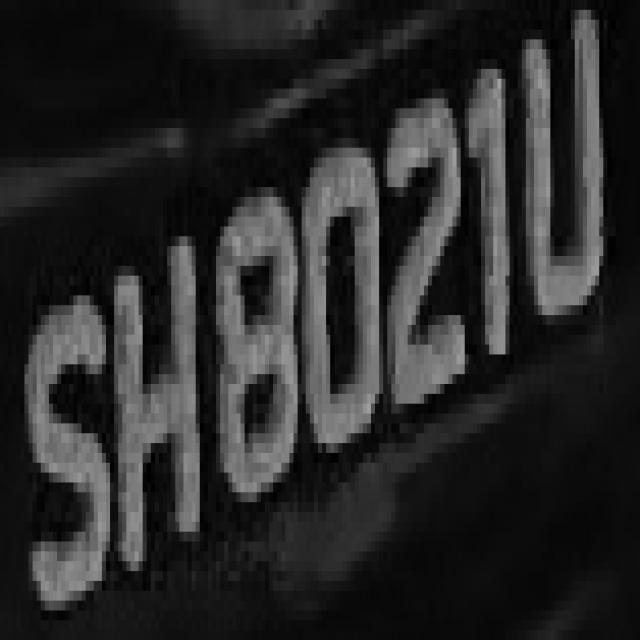0: (302, 148, 387, 462)
1: (461, 49, 522, 404)
2: (375, 99, 469, 424)
8: (212, 138, 298, 532)
H: (102, 256, 208, 610)
S: (16, 276, 114, 620)
U: (514, 10, 612, 354)
